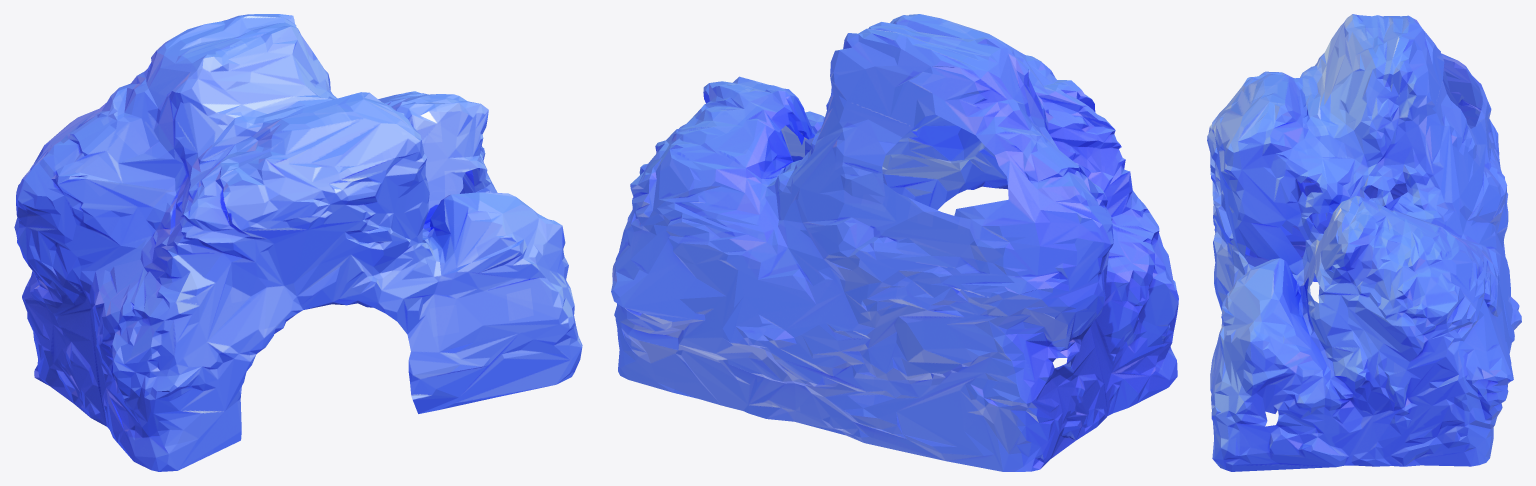
File: Benoit_3D.gltf
3 renders of one model, left to right at view 1: azimuth 30°, elevation 25°; view 2: azimuth 150°, elevation 25°; view 3: azimuth 270°, elevation 25°, orthographic. The views are drawn at different scales.
Visible parts, largest first — view 1: Benoit_3D; view 2: Benoit_3D; view 3: Benoit_3D.
Part boxes in pixels (x1,y1,x2,y2): Benoit_3D: [14, 14, 582, 471]; Benoit_3D: [611, 14, 1178, 471]; Benoit_3D: [1207, 14, 1521, 471].
Bounding box in the file's own units: 7.27 × 5.17 × 4.55.
Materials: 1 (1 with a texture image).
